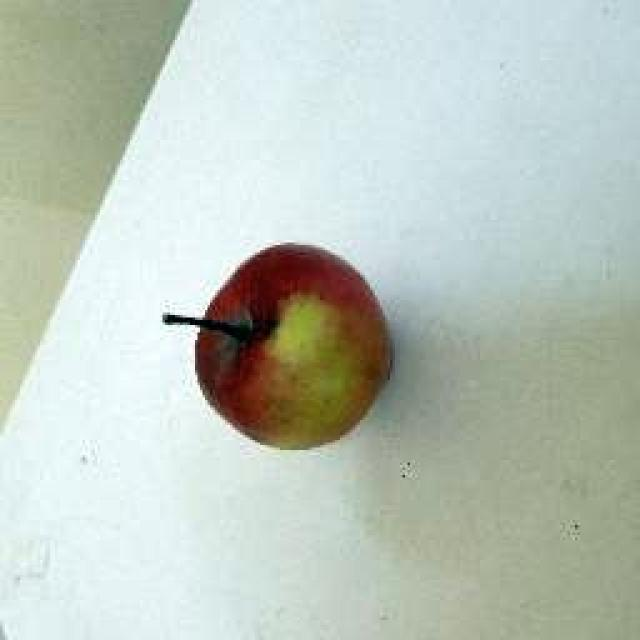Good_Apple: (162, 245, 395, 455)
